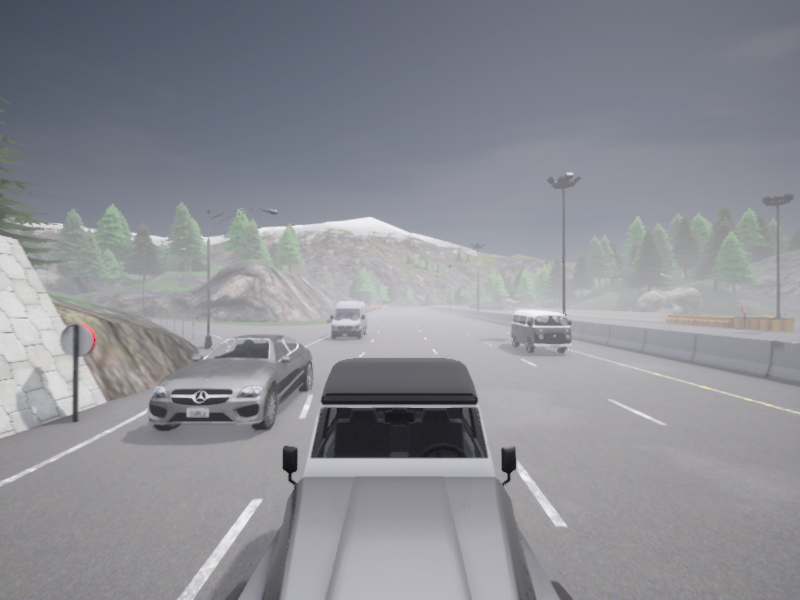vehicle: (224, 357, 573, 599), (148, 334, 312, 430), (510, 310, 571, 353), (330, 301, 366, 339), (469, 303, 470, 305)
